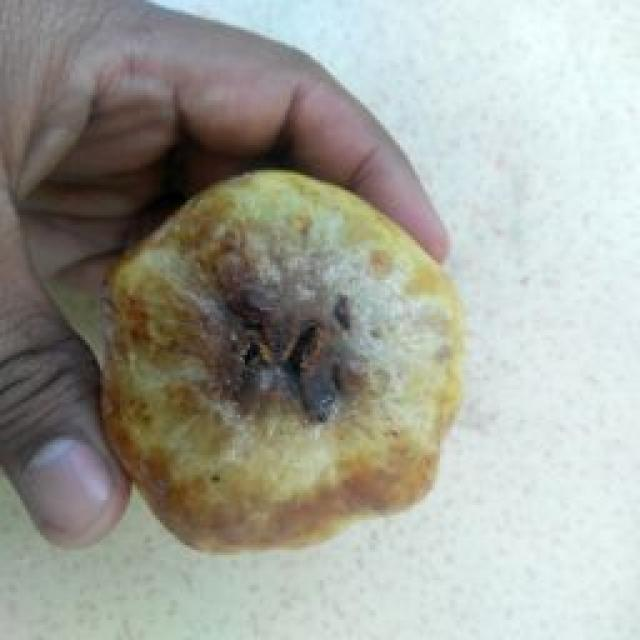Bad_Guava: (102, 172, 461, 549)
